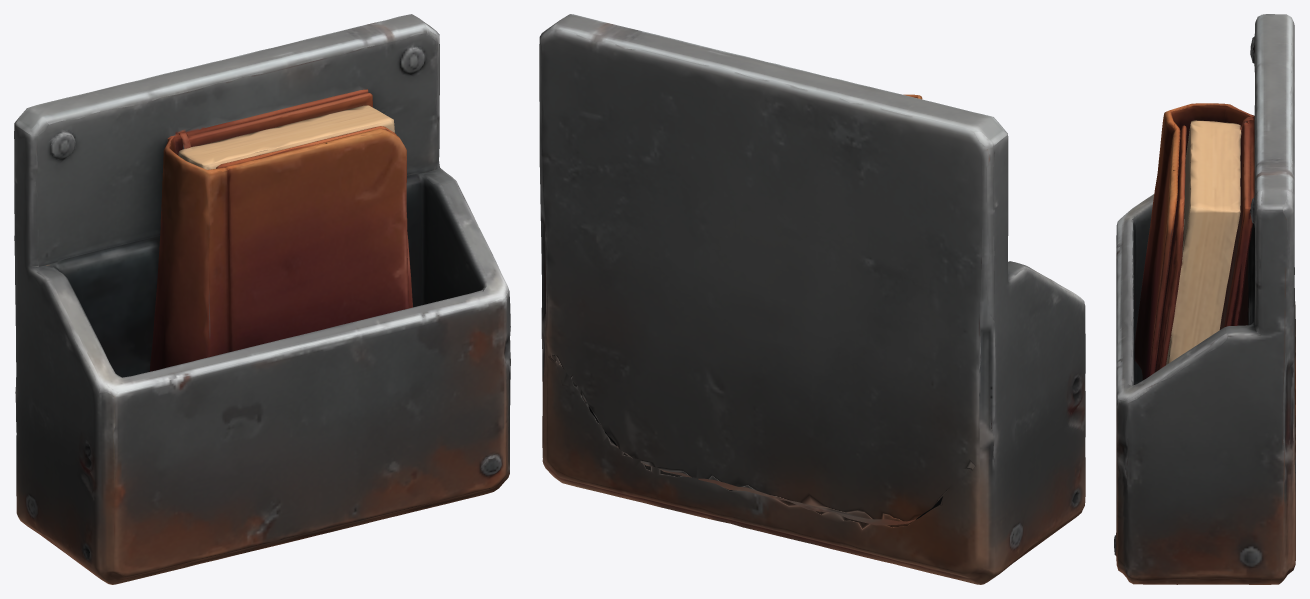
File: library_BookmarkHolder.glb
3 renders of one model, left to right at view 1: azimuth 30°, elevation 25°; view 2: azimuth 150°, elevation 25°; view 3: azimuth 270°, elevation 25°, orthographic. The views are drawn at different scales.
Visible parts, largest first — view 1: world; view 2: world; view 3: world.
Boxes of the visible parts, x1,y1,x2,y2 form: world: [14, 14, 510, 584]; world: [539, 14, 1085, 584]; world: [1114, 14, 1295, 584].
Size of the model in its own units: 1 by 0.9656 by 0.402.
1 material, 1 textured.
